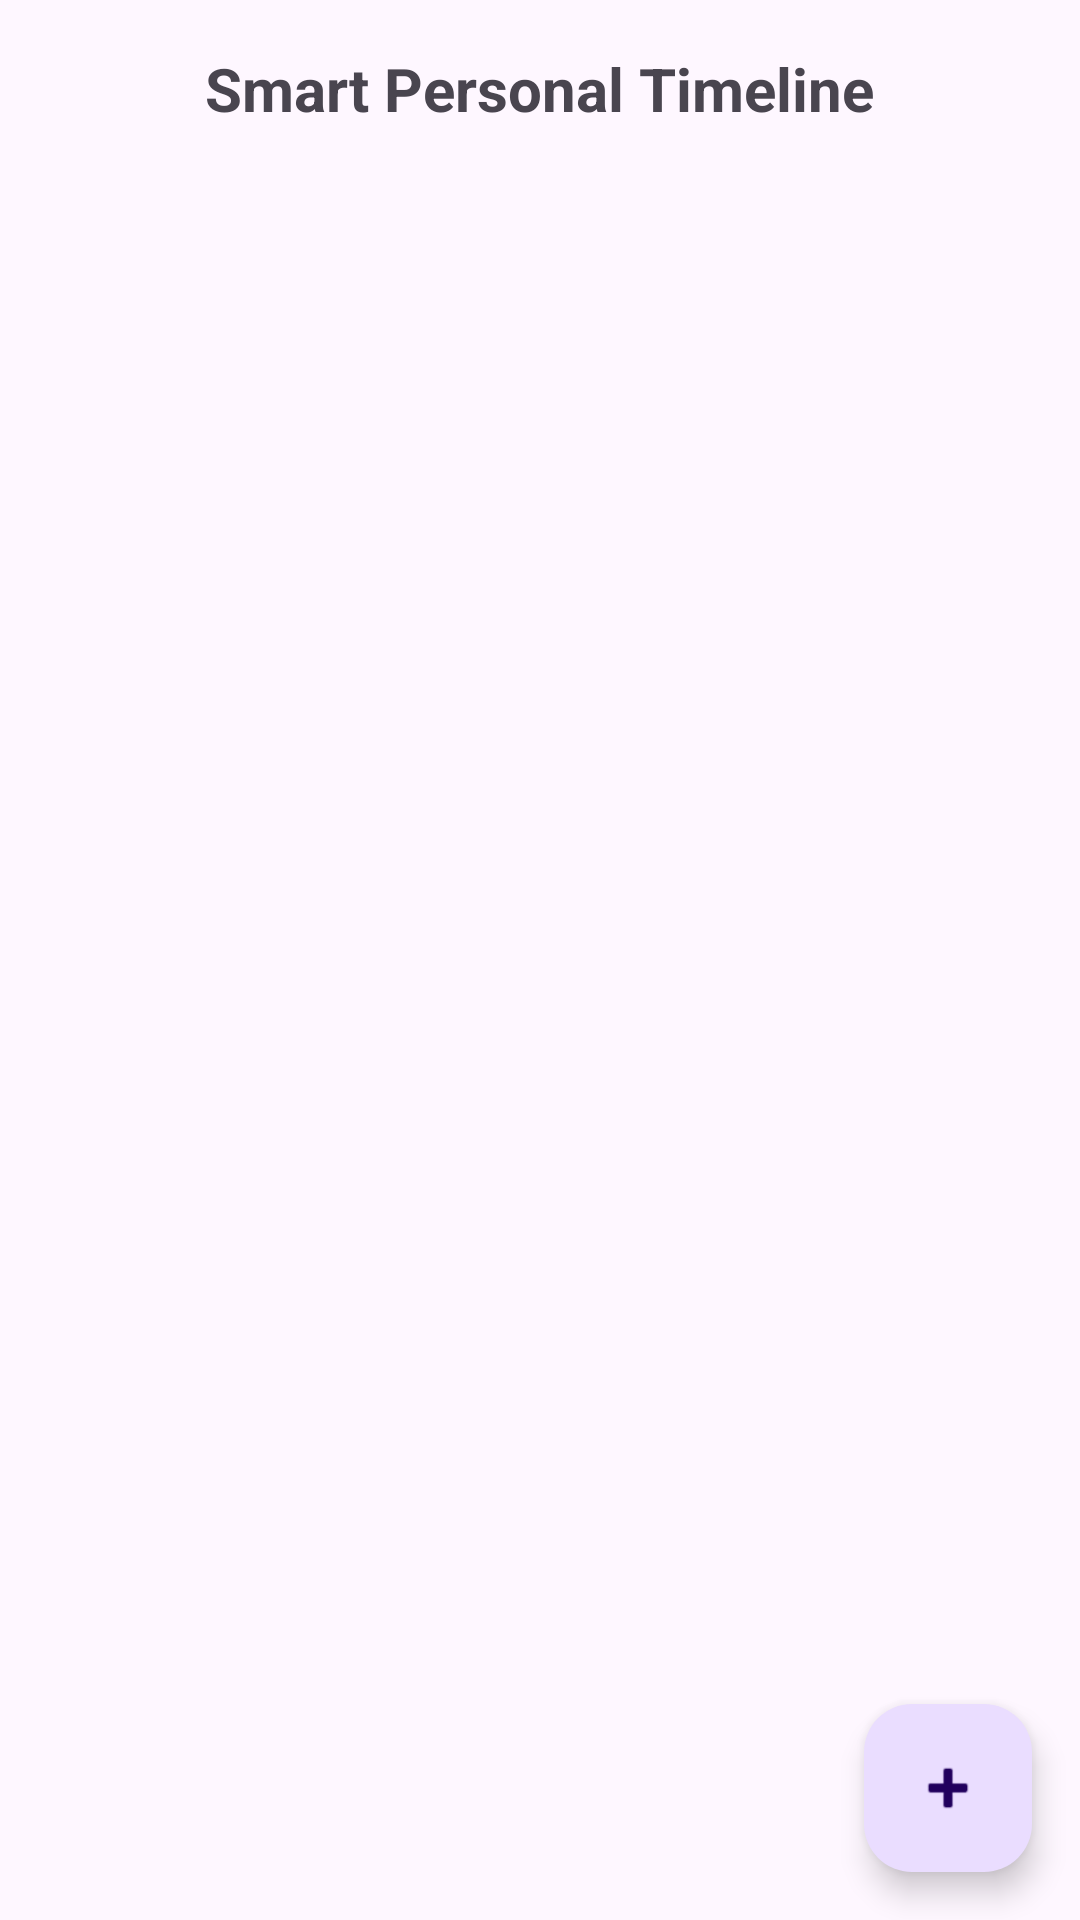

Screen size 1080px x 1920px. Icon name, then its center in pixels as (x,y):
Add Post: (948,1788)
